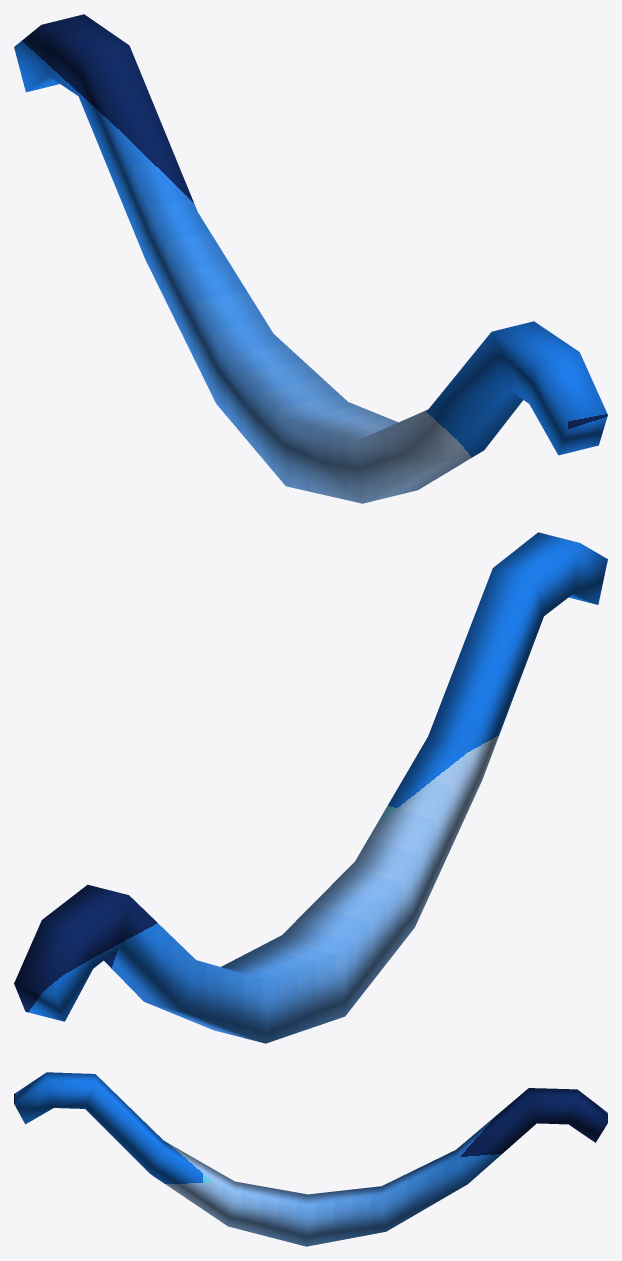
File: ShortBow_Export.glb
3 views of the same model, one above another, from view 1: azimuth 30°, elevation 25°; view 2: azimuth 150°, elevation 25°; view 3: azimuth 270°, elevation 25° (orthographic). The views are drawn at different scales.
Parts seen in each view (by area): view 1: ShortBow_Detail; view 2: ShortBow_Detail; view 3: ShortBow_Detail.
Part boxes in pixels (x1=…): ShortBow_Detail: x1=14, y1=14, x2=607, y2=503; ShortBow_Detail: x1=14, y1=532, x2=607, y2=1043; ShortBow_Detail: x1=14, y1=1072, x2=607, y2=1246.
Size of the model in its own units: 0.1268 by 0.5653 by 1.9.
Materials: 2 (2 with a texture image).
